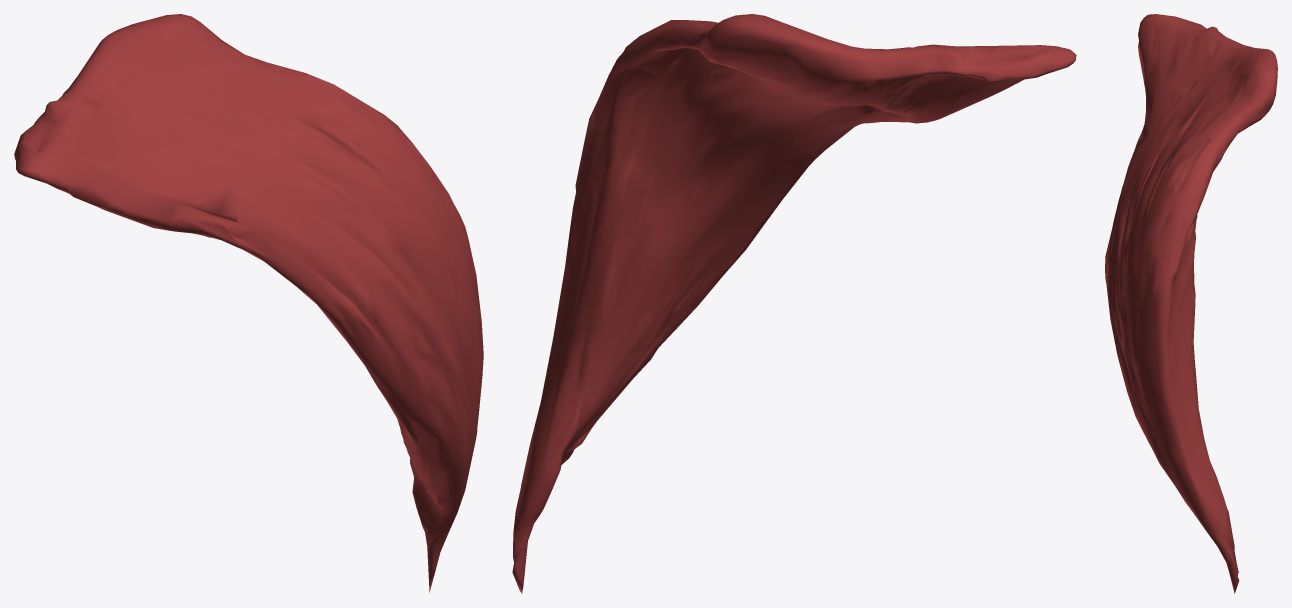
The model's file is clavicular-part-of-deltoid-muscle-l.glb.
3 views of the same model, side by side, from view 1: azimuth 30°, elevation 25°; view 2: azimuth 150°, elevation 25°; view 3: azimuth 270°, elevation 25° (orthographic). The views are drawn at different scales.
Visible parts, largest first — view 1: Clavicular part of deltoid muscle.l; view 2: Clavicular part of deltoid muscle.l; view 3: Clavicular part of deltoid muscle.l.
Boxes of the visible parts, left/top/right/bottom form: Clavicular part of deltoid muscle.l: left=14, top=14, right=483, bottom=592; Clavicular part of deltoid muscle.l: left=512, top=14, right=1076, bottom=593; Clavicular part of deltoid muscle.l: left=1105, top=14, right=1277, bottom=593.
Bounding box in the file's own units: 0.126 × 0.1555 × 0.0548.
